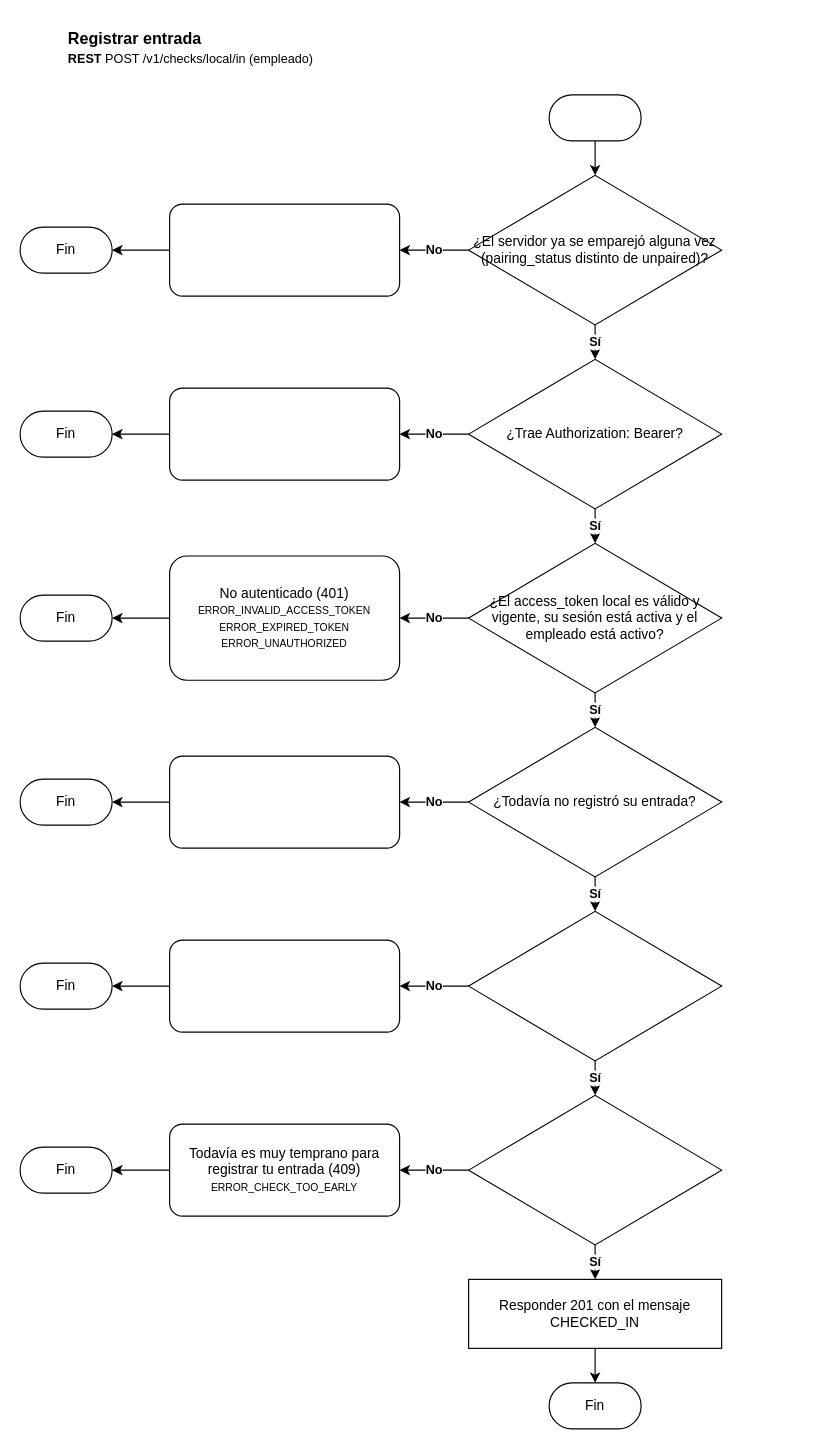
Some shapes in this 822 by 1449 pixel diagram are drawn without their labels. The shapes that lost their labels are listed below. From the top down, each one's centre as x and y in pixels, then its label:
At point (594, 117): "Inicio".
At point (284, 249): "Servidor sin emparejar (409) ERROR_SERVER_NOT_PAIRED".
At point (284, 433): "Falta el token (401) ERROR_MISSING_TOKEN".
At point (284, 801): "Ya registraste tu entrada (409) ERROR_CHECK_ALREADY_CHECKED_IN".
At point (284, 985): "No tienes un turno programado para hoy (404) ERROR_CHECK_NO_SHIFT".
At point (594, 985): "¿Tiene un turno programado para hoy?".
At point (594, 1169): "¿Ya empezó la ventana de entrada (clock_in_window_minutes antes del turno)?".
